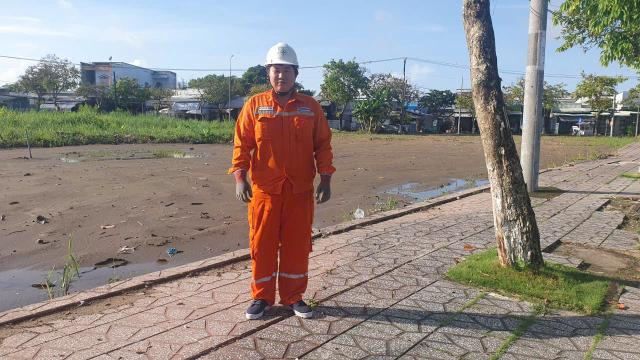gloves: (308, 168, 338, 205), (235, 166, 255, 203)
helmet: (257, 37, 306, 71)
shoes: (276, 294, 314, 318), (242, 295, 271, 321)
